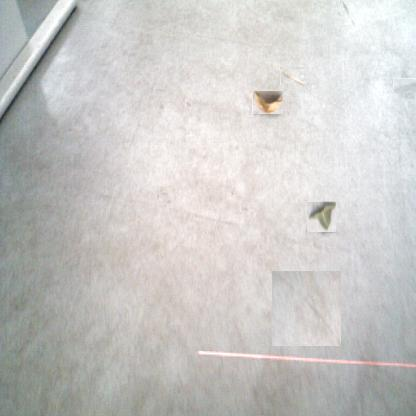dirty: (306, 201, 336, 232), (252, 90, 283, 114), (280, 68, 304, 86)
mark: (271, 270, 341, 346), (397, 74, 416, 97), (158, 186, 174, 202), (340, 1, 348, 13), (240, 204, 249, 212), (185, 100, 192, 108), (158, 101, 164, 109), (232, 192, 235, 200)
